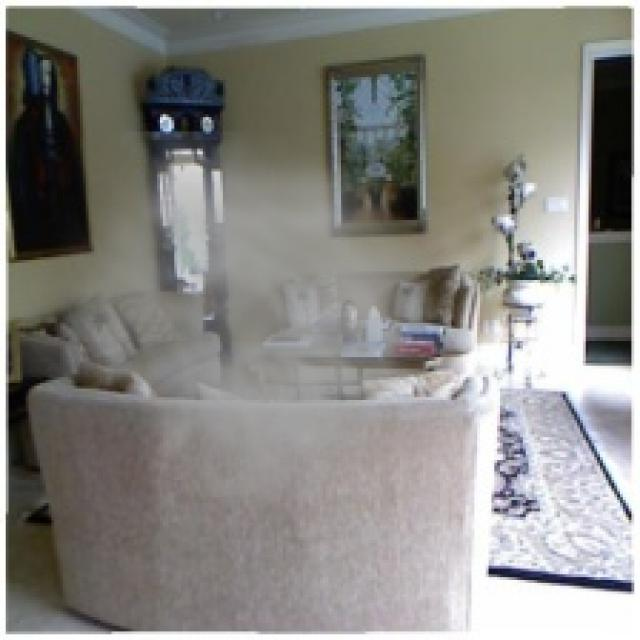smoke: (46, 132, 468, 552)
